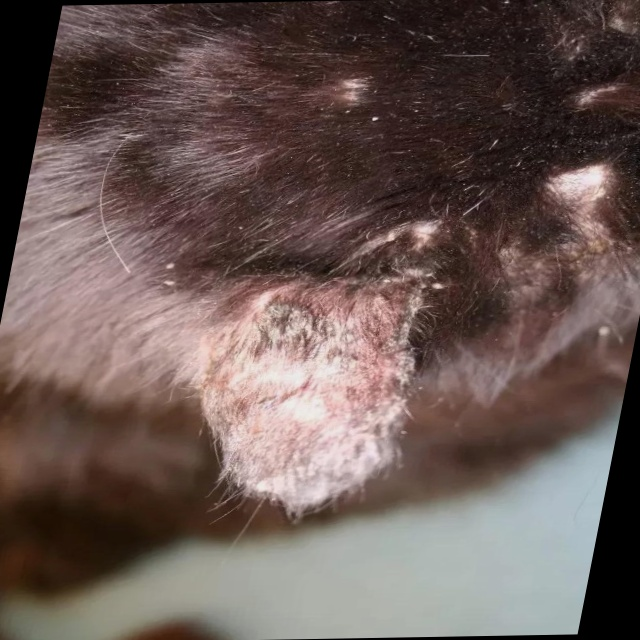ringworm: (221, 300, 397, 436)
